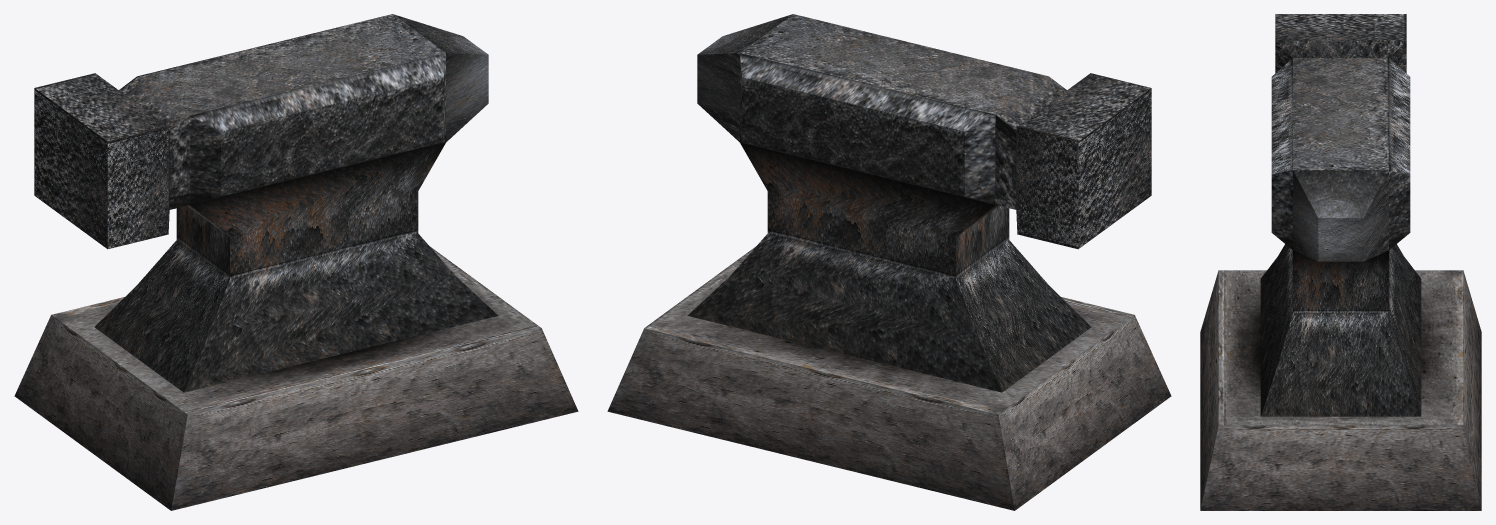
Rendered from mm9_deco_anvil.glb.
The picture shows the model from 3 angles, left to right: view 1: azimuth 30°, elevation 25°; view 2: azimuth 150°, elevation 25°; view 3: azimuth 270°, elevation 25°; orthographic projection. The views are drawn at different scales.
Visible parts, largest first — view 1: Anvil; view 2: Anvil; view 3: Anvil.
Boxes of the visible parts, x1=… form: Anvil: x1=14, y1=14, x2=578, y2=510; Anvil: x1=607, y1=14, x2=1171, y2=510; Anvil: x1=1200, y1=14, x2=1481, y2=510.
Size of the model in its own units: 1.27 by 0.9757 by 0.8057.
Materials: 1 (1 with a texture image).
